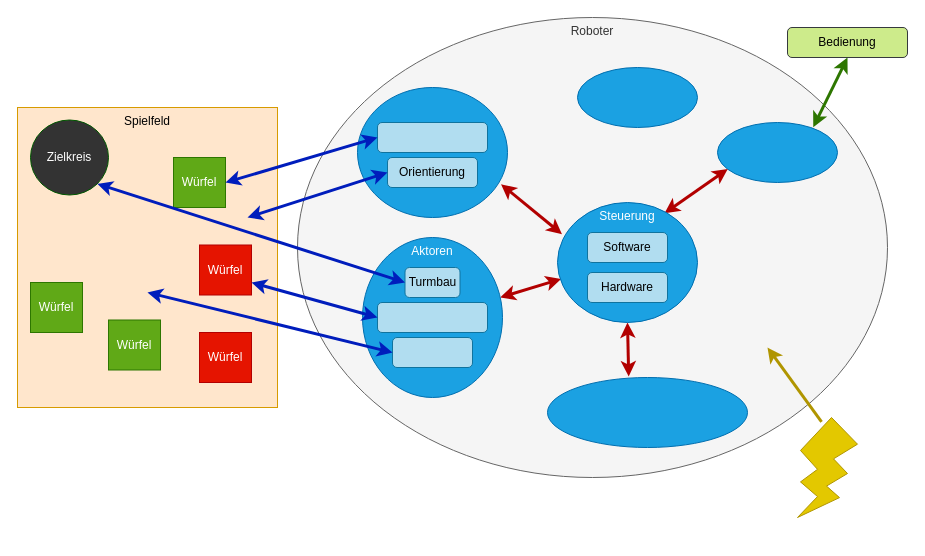
The diagram is 925 pixels wide and 556 high, and some of its shapes have lost their labels. Here are the shapes that lost their labels. From the top down, the box of each, then its label:
(576, 66, 698, 128): Konstruktion
(376, 122, 488, 152): Würfelerkennung
(356, 86, 508, 218): Sensoren
(716, 122, 838, 182): Bedienelemente
(376, 302, 488, 332): Würfelaufnahme
(392, 336, 472, 368): Bewegungen
(546, 376, 748, 448): Anzeige / Soundausgabe
(796, 416, 858, 518): Energieversorgung
